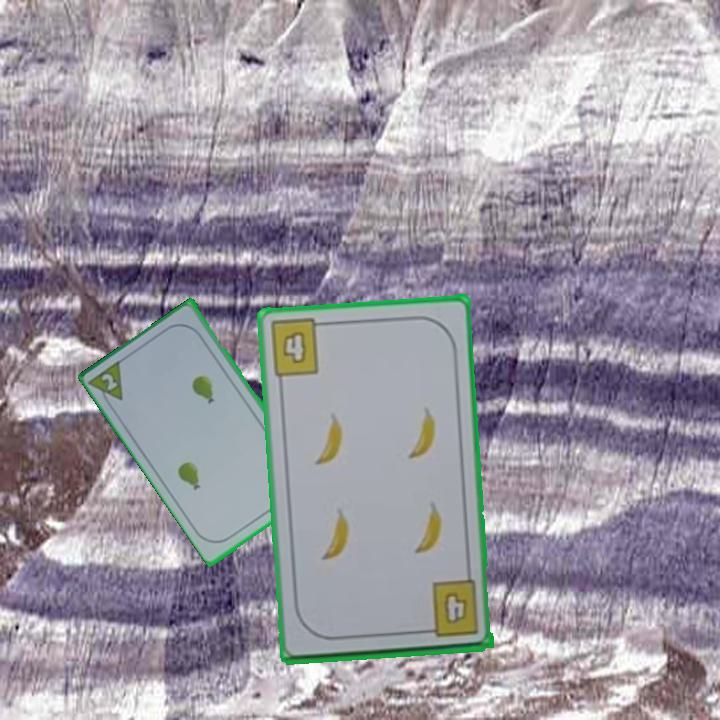2p: (98, 370, 121, 394)
4b: (266, 315, 330, 379), (418, 577, 482, 641)
